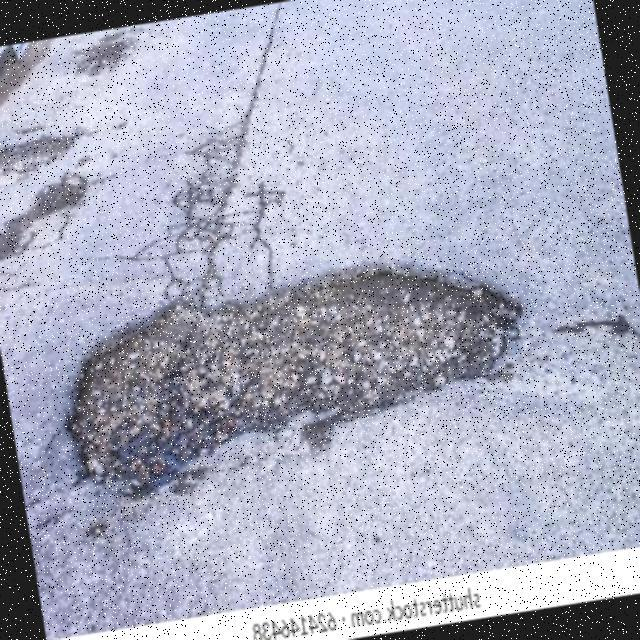Pothole: (59, 264, 523, 506), (0, 132, 80, 185)
